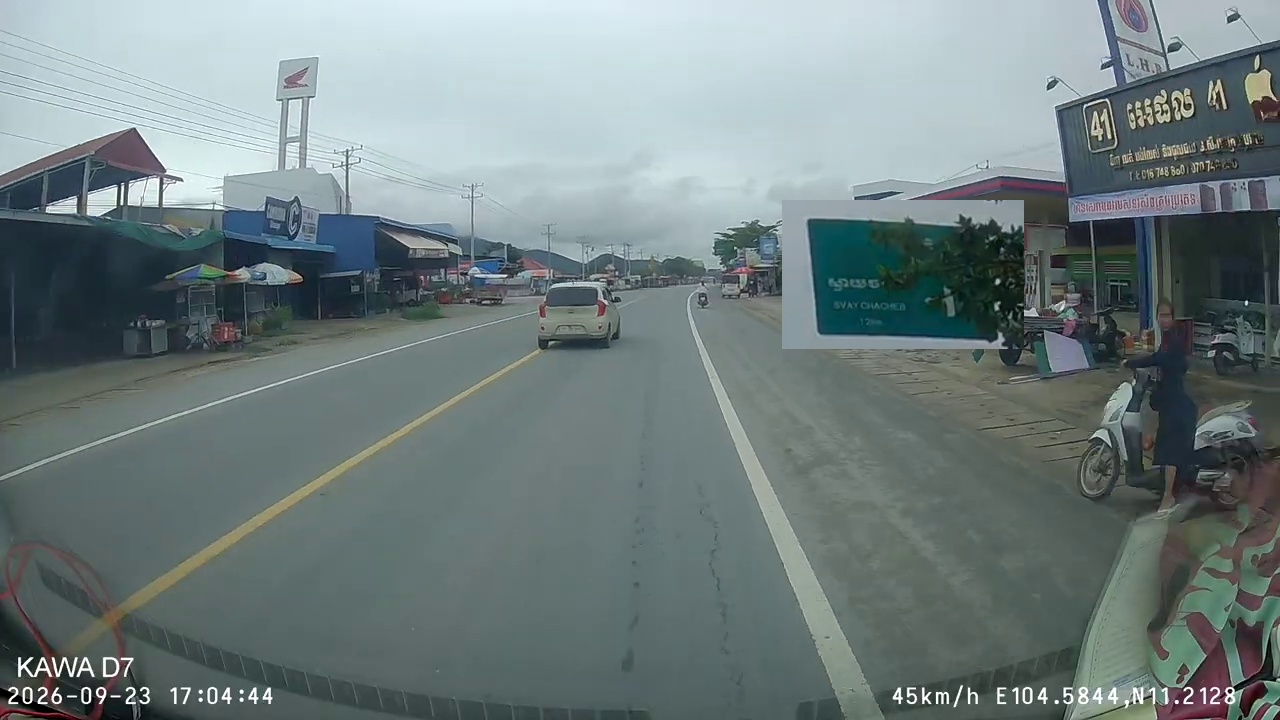direction_sign: (782, 200, 1024, 349)
